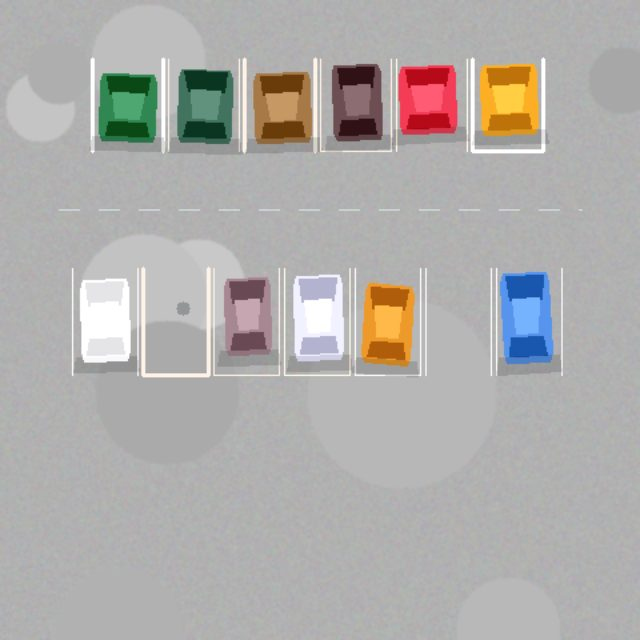space-empty: (425, 268, 491, 375), (143, 268, 208, 375)
space-occupied: (213, 268, 279, 375), (72, 268, 137, 375), (284, 268, 349, 375), (355, 268, 420, 375), (496, 268, 561, 375), (92, 59, 163, 151), (168, 59, 239, 151), (244, 59, 315, 151), (320, 59, 391, 151), (396, 59, 467, 151), (472, 59, 543, 151)
